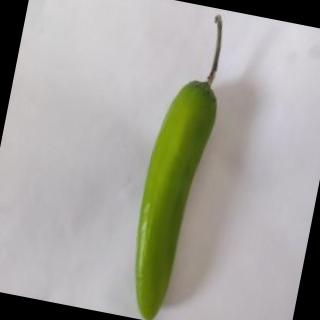Cabai Hijau: (114, 2, 240, 320)
